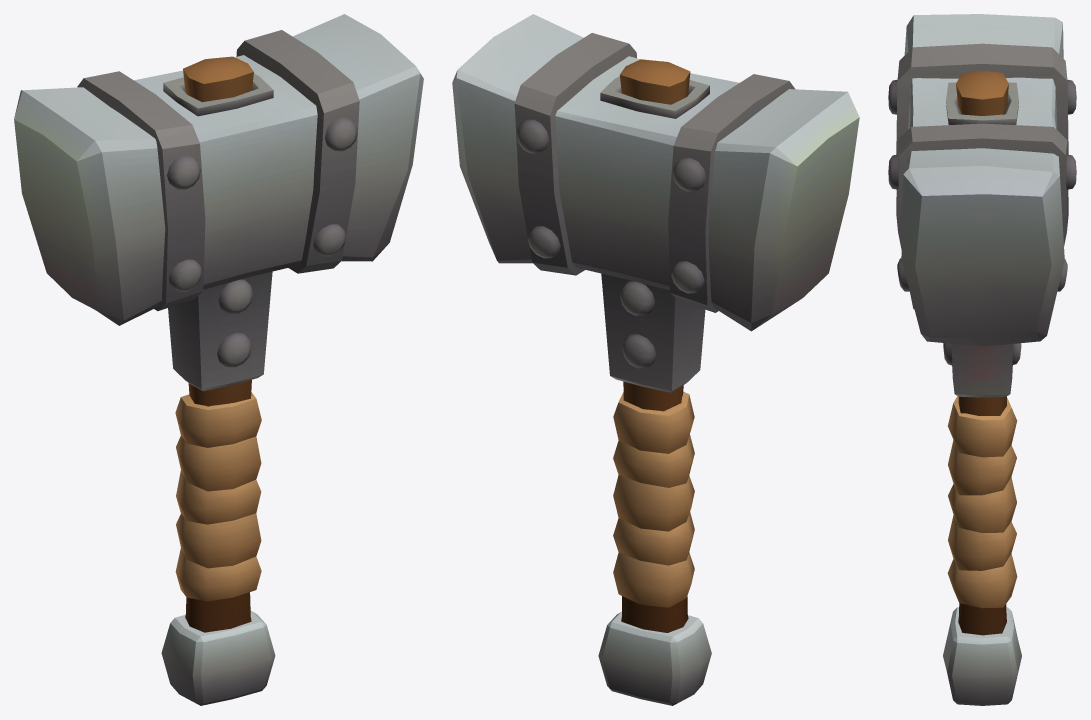
The model's file is Hammer_07.glb.
3 renders of one model, left to right at view 1: azimuth 30°, elevation 25°; view 2: azimuth 150°, elevation 25°; view 3: azimuth 270°, elevation 25°, orthographic. The views are drawn at different scales.
Parts seen in each view (by area): view 1: Hammer_07; view 2: Hammer_07; view 3: Hammer_07.
Boxes of the visible parts, x1,y1,x2,y2 form: Hammer_07: (14, 14, 423, 705); Hammer_07: (452, 14, 859, 705); Hammer_07: (888, 14, 1076, 705).
Bounding box in the file's own units: 0.6368 × 1.08 × 0.301.
1 material, 1 textured.
